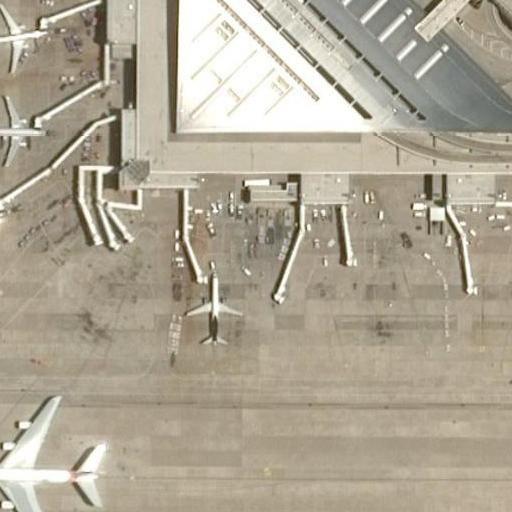Aircraft: (0, 392, 107, 512), (188, 272, 241, 346), (0, 93, 47, 166), (0, 5, 48, 73)
